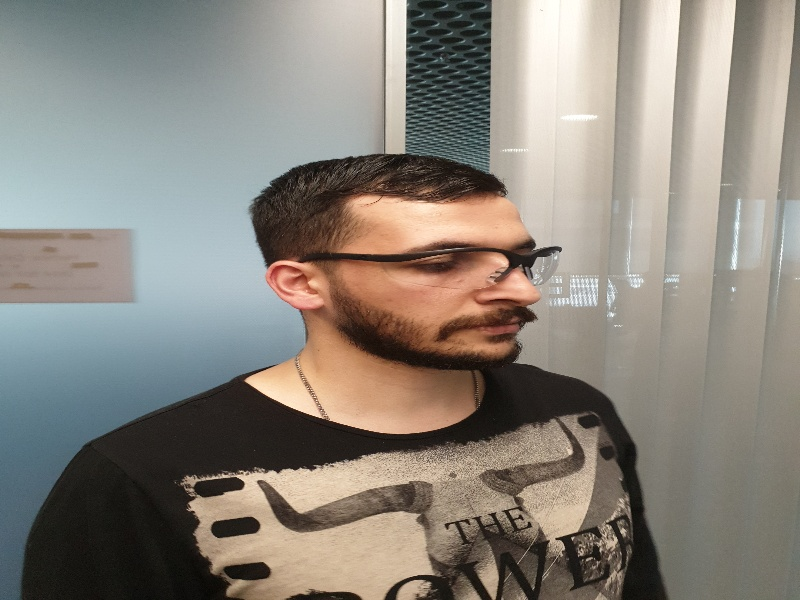Gozluk: (301, 244, 565, 287)
